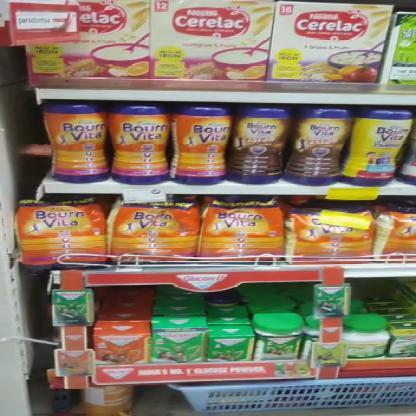Glucon D Regular 1-KG: (150, 327, 200, 364), (211, 329, 255, 358)
Glucon D Regular 2-KG: (254, 316, 296, 360)
Glucon D Tangy orange 1-KG: (98, 328, 146, 369)
